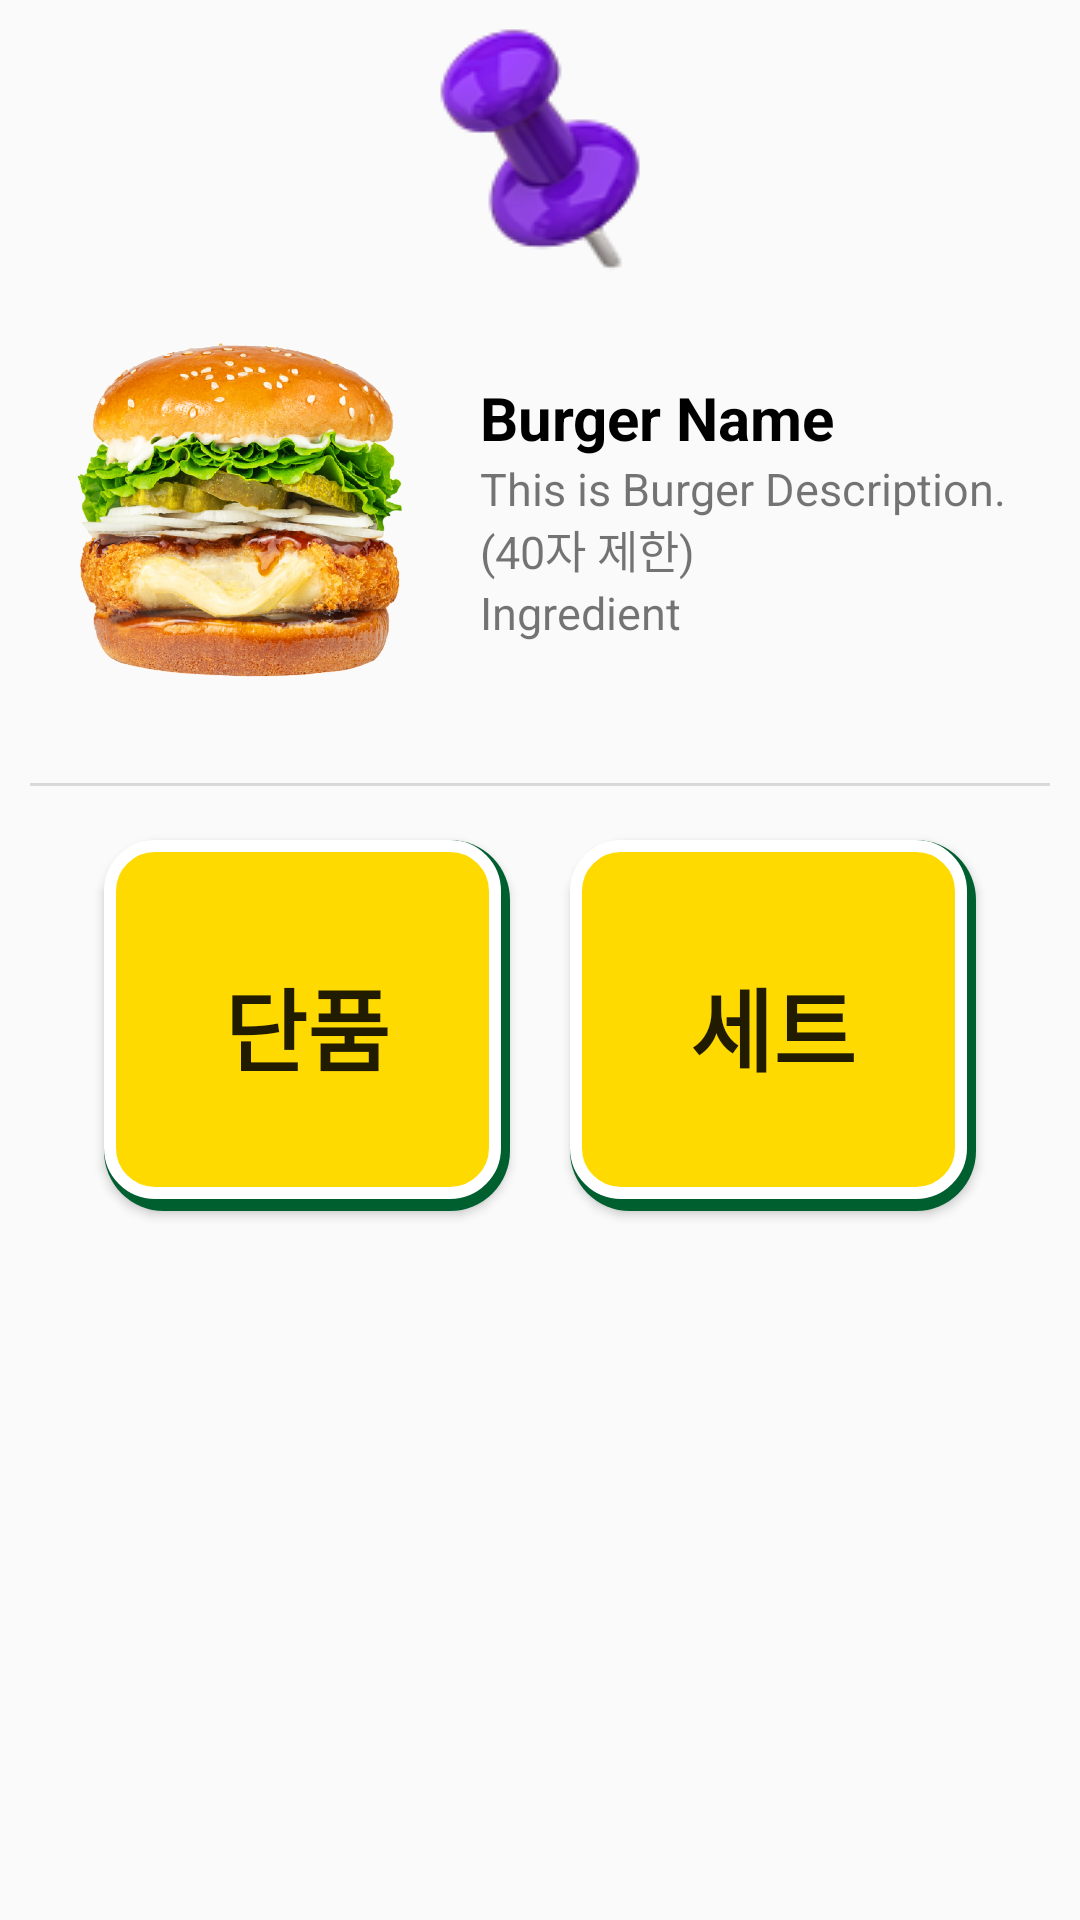

Screen size 1080×1920. Icon name, then its box in pixels as (x1, y1, x2, y2):
pin: (440, 29, 640, 268)
